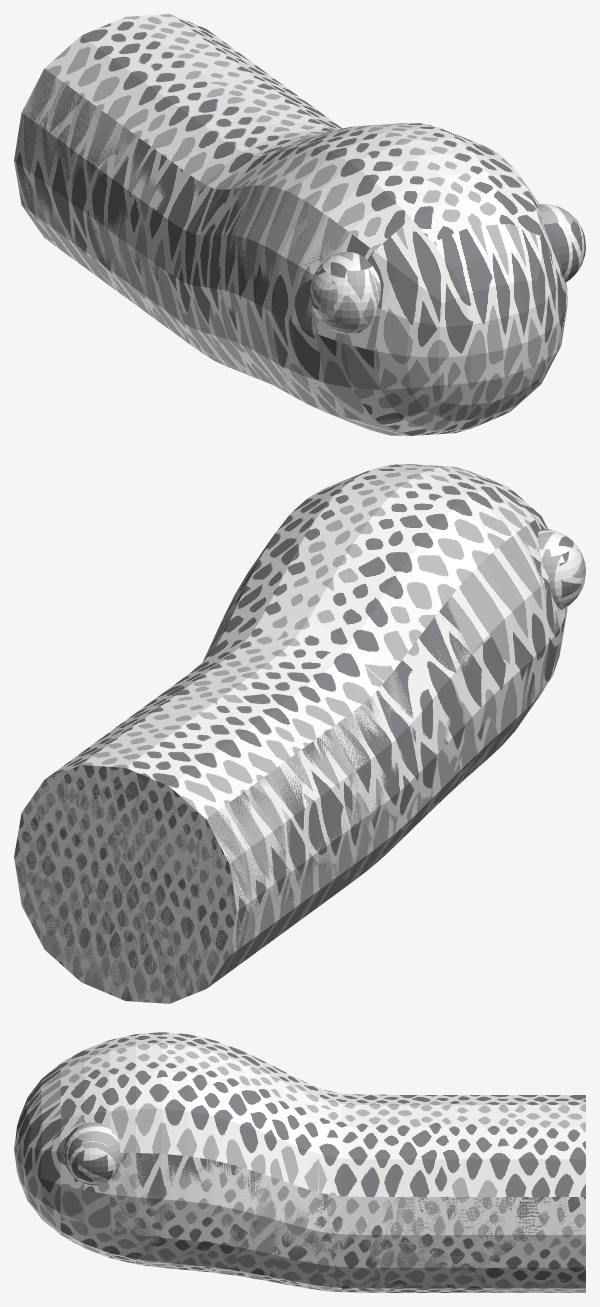
File: snek_head_texture.glb
The picture shows the model from 3 angles, top to bottom: view 1: azimuth 30°, elevation 25°; view 2: azimuth 150°, elevation 25°; view 3: azimuth 270°, elevation 25°; orthographic projection. The views are drawn at different scales.
Visible parts, largest first — view 1: Cube.002; view 2: Cube.002; view 3: Cube.002.
Part boxes in pixels (bbox=[...]): Cube.002: bbox=[14, 14, 585, 435]; Cube.002: bbox=[14, 464, 585, 1003]; Cube.002: bbox=[14, 1032, 585, 1292].
Size of the model in its own units: 5.56 by 6.27 by 13.66.
1 material, 1 textured.
